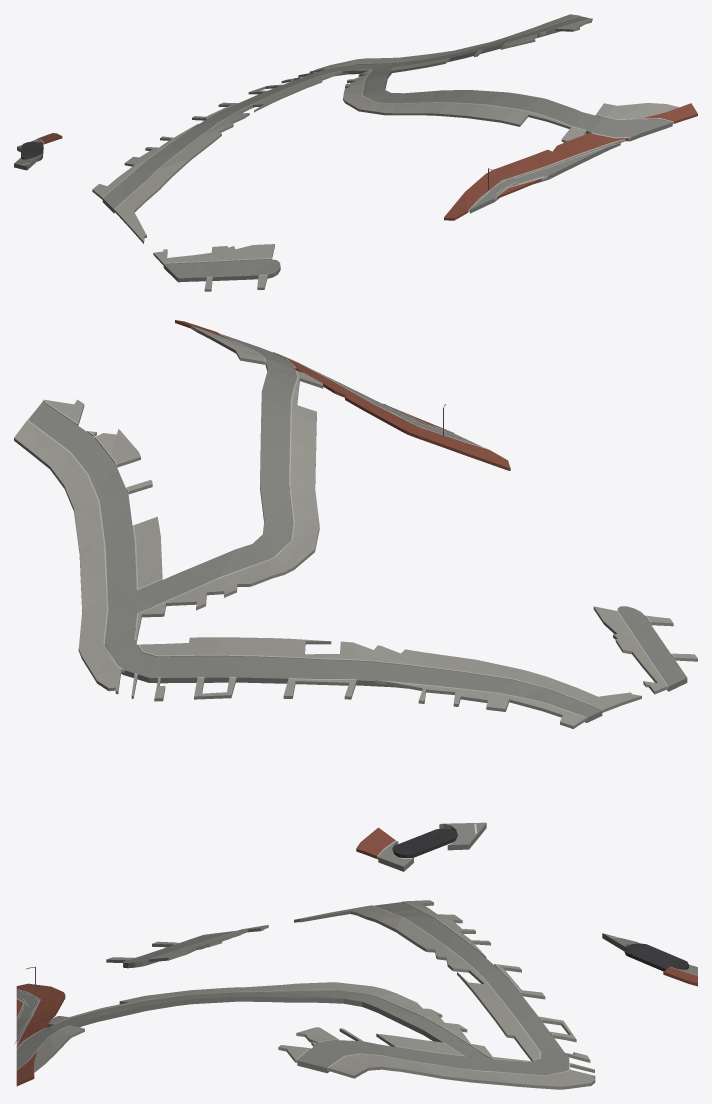
The picture shows the model from 3 angles, top to bottom: view 1: azimuth 30°, elevation 25°; view 2: azimuth 150°, elevation 25°; view 3: azimuth 270°, elevation 25°; orthographic projection. The views are drawn at different scales.
Size of the model in its own units: 147 by 43.85 by 146.
